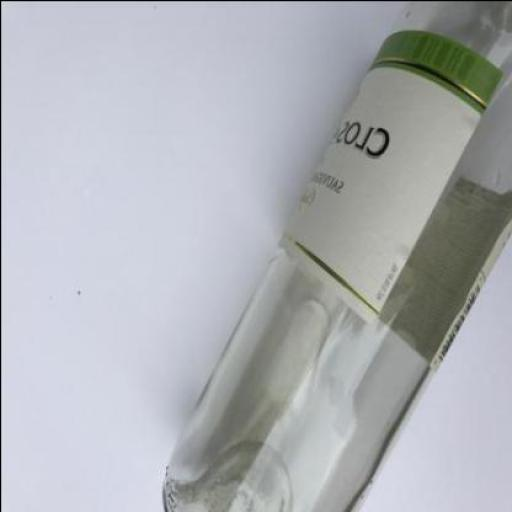glass: (159, 1, 512, 511)
